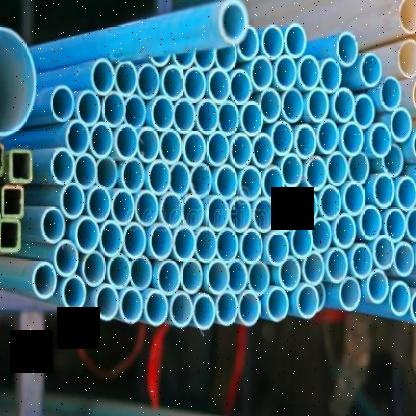pipe: (0, 26, 37, 135), (218, 0, 248, 45), (60, 182, 86, 219), (74, 217, 100, 253), (32, 262, 57, 299), (62, 275, 87, 312), (50, 85, 74, 123), (76, 89, 100, 127), (66, 119, 90, 157), (149, 223, 173, 261), (94, 283, 118, 321), (119, 288, 144, 324), (91, 58, 115, 95), (147, 159, 171, 196), (54, 240, 78, 277), (82, 250, 106, 287), (107, 253, 131, 290), (51, 147, 74, 185), (114, 61, 138, 97), (102, 91, 126, 127), (340, 121, 364, 157), (121, 157, 145, 193), (87, 186, 111, 222), (134, 190, 158, 226), (160, 192, 184, 228), (41, 207, 65, 243), (100, 220, 124, 256), (172, 226, 196, 262), (144, 290, 168, 326), (240, 100, 263, 137), (193, 293, 216, 330), (162, 65, 186, 100), (180, 259, 204, 294), (206, 259, 230, 294), (170, 293, 194, 328), (137, 63, 160, 99), (173, 98, 196, 134), (90, 122, 113, 158), (115, 123, 138, 159), (183, 130, 206, 166), (214, 164, 237, 200), (111, 189, 134, 225), (228, 197, 251, 233), (252, 198, 275, 234), (383, 207, 406, 243), (123, 222, 146, 258), (278, 255, 301, 291), (157, 259, 180, 295), (266, 286, 289, 322), (320, 57, 342, 94), (252, 132, 274, 169), (75, 153, 97, 190), (169, 161, 191, 198), (216, 227, 238, 264), (241, 228, 263, 265), (271, 121, 294, 156), (296, 189, 319, 224), (302, 251, 325, 286), (297, 284, 320, 319), (284, 23, 307, 58), (275, 55, 297, 91), (298, 55, 320, 91), (184, 67, 206, 103), (230, 69, 252, 105), (307, 87, 329, 123), (354, 94, 376, 130), (124, 94, 146, 130), (152, 95, 174, 131), (196, 99, 218, 135), (316, 119, 338, 155), (294, 124, 316, 160), (137, 126, 159, 162), (262, 165, 284, 201), (240, 165, 262, 201), (343, 180, 365, 216), (182, 194, 204, 230), (274, 196, 296, 232), (360, 205, 382, 241), (334, 213, 356, 249), (291, 224, 313, 260), (196, 227, 218, 263), (373, 234, 395, 270), (339, 276, 361, 312), (216, 290, 238, 326), (238, 291, 260, 327), (262, 24, 284, 60), (237, 25, 259, 61), (336, 31, 358, 67), (208, 69, 231, 103), (326, 249, 349, 283), (251, 56, 273, 91), (380, 76, 402, 111), (260, 88, 282, 123), (281, 88, 303, 123), (218, 101, 240, 136), (390, 107, 412, 142), (370, 123, 392, 158), (160, 129, 182, 164), (207, 131, 229, 166), (326, 151, 348, 186), (281, 153, 303, 188), (305, 156, 327, 191), (190, 163, 212, 198), (319, 185, 341, 220), (207, 196, 229, 231), (266, 231, 288, 266), (351, 244, 373, 279), (130, 256, 152, 291), (248, 261, 270, 296), (366, 269, 388, 304), (389, 281, 411, 316), (397, 38, 416, 78), (360, 53, 382, 87), (332, 88, 354, 122), (230, 134, 252, 168), (96, 156, 118, 190), (373, 174, 395, 208), (311, 218, 332, 253), (227, 259, 248, 294), (382, 144, 404, 177), (348, 152, 370, 184), (394, 242, 414, 277), (396, 177, 416, 211), (215, 44, 237, 72), (399, 0, 415, 34), (405, 205, 416, 242), (410, 289, 416, 325), (412, 127, 416, 163), (297, 90, 298, 91)
